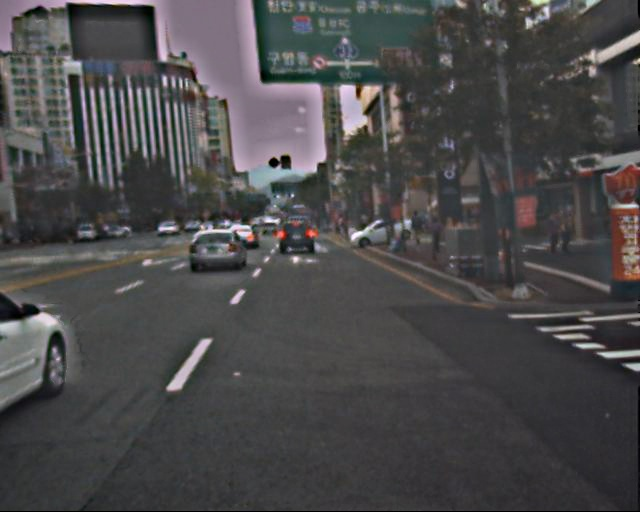person: (556, 203, 578, 256), (543, 210, 562, 257), (409, 210, 424, 247), (429, 217, 444, 254)
